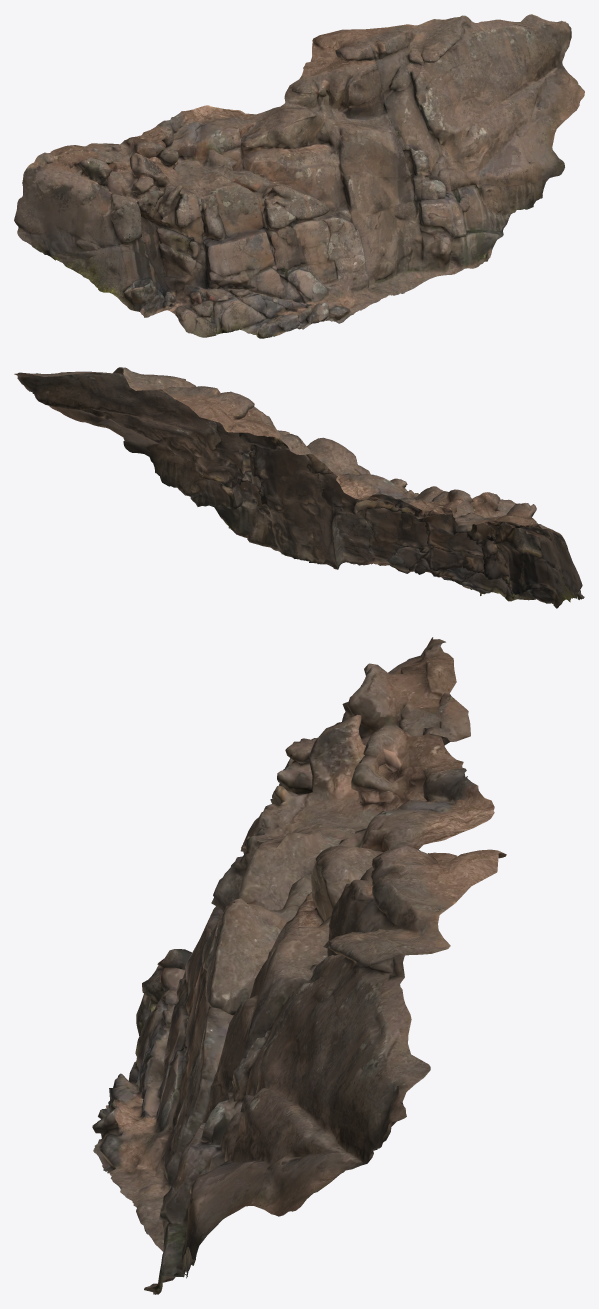
File: namaqualand_cliff_02.glb
The picture shows the model from 3 angles, top to bottom: view 1: azimuth 30°, elevation 25°; view 2: azimuth 150°, elevation 25°; view 3: azimuth 270°, elevation 25°; orthographic projection. The views are drawn at different scales.
Visible parts, largest first — view 1: namaqualand_cliff_02; view 2: namaqualand_cliff_02; view 3: namaqualand_cliff_02.
Boxes of the visible parts, x1,y1,x2,y2 form: namaqualand_cliff_02: [14, 14, 584, 338]; namaqualand_cliff_02: [14, 367, 584, 608]; namaqualand_cliff_02: [92, 637, 506, 1294].
Bounding box in the file's own units: 20.23 × 7.19 × 6.6.
Materials: 1 (1 with a texture image).
